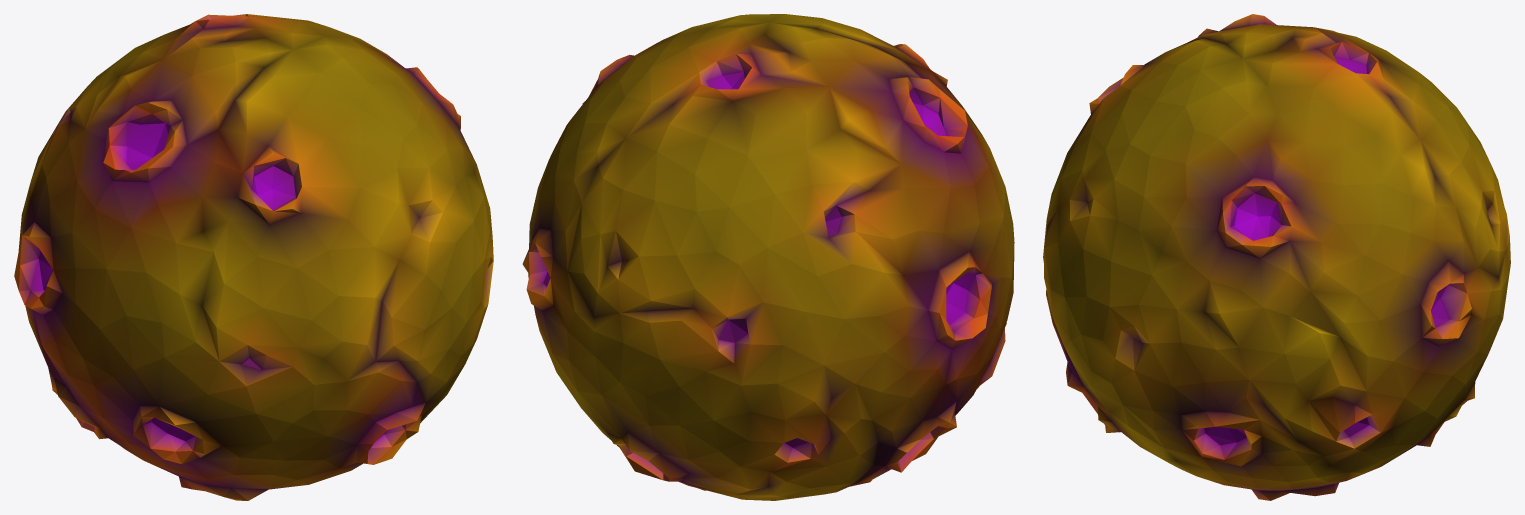
The model's file is moon22.fbx.
3 renders of one model, left to right at view 1: azimuth 30°, elevation 25°; view 2: azimuth 150°, elevation 25°; view 3: azimuth 270°, elevation 25°, orthographic. The views are drawn at different scales.
Parts seen in each view (by area): view 1: attribblur1; view 2: attribblur1; view 3: attribblur1.
Part boxes in pixels (box(x1,y1,x2,y2)): attribblur1: box(14, 14, 493, 500); attribblur1: box(522, 14, 1014, 500); attribblur1: box(1043, 14, 1510, 500).
Bounding box in the file's own units: 1.02 × 1.02 × 0.9958.
